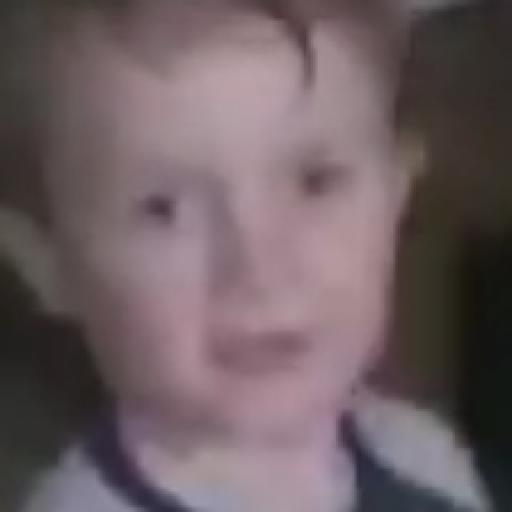Autism: (22, 12, 440, 498)
